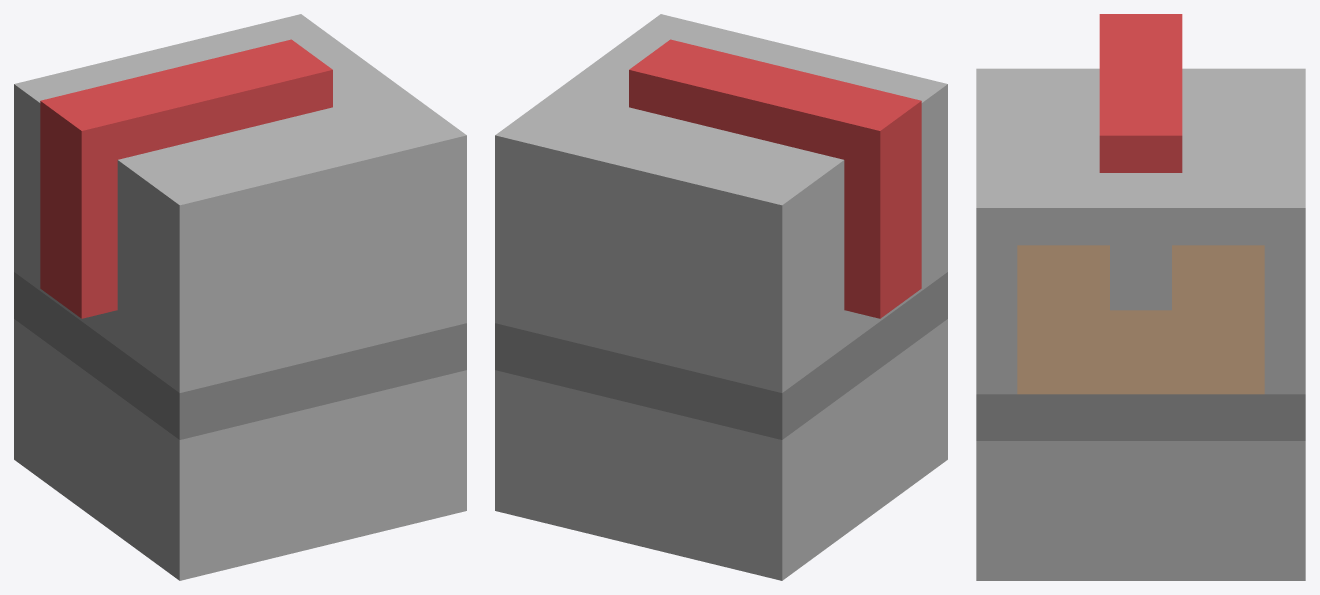
File: Guard.fbx
3 views of the same model, side by side, from view 1: azimuth 30°, elevation 25°; view 2: azimuth 150°, elevation 25°; view 3: azimuth 270°, elevation 25° (orthographic).
Visible parts, largest first — view 1: Cube; view 2: Cube; view 3: Cube.
Part boxes in pixels (x1,y1,x2,y2): Cube: [14, 14, 466, 580]; Cube: [495, 14, 947, 580]; Cube: [976, 14, 1305, 580].
Bounding box in the file's own units: 1.6 × 2.2 × 1.8.
